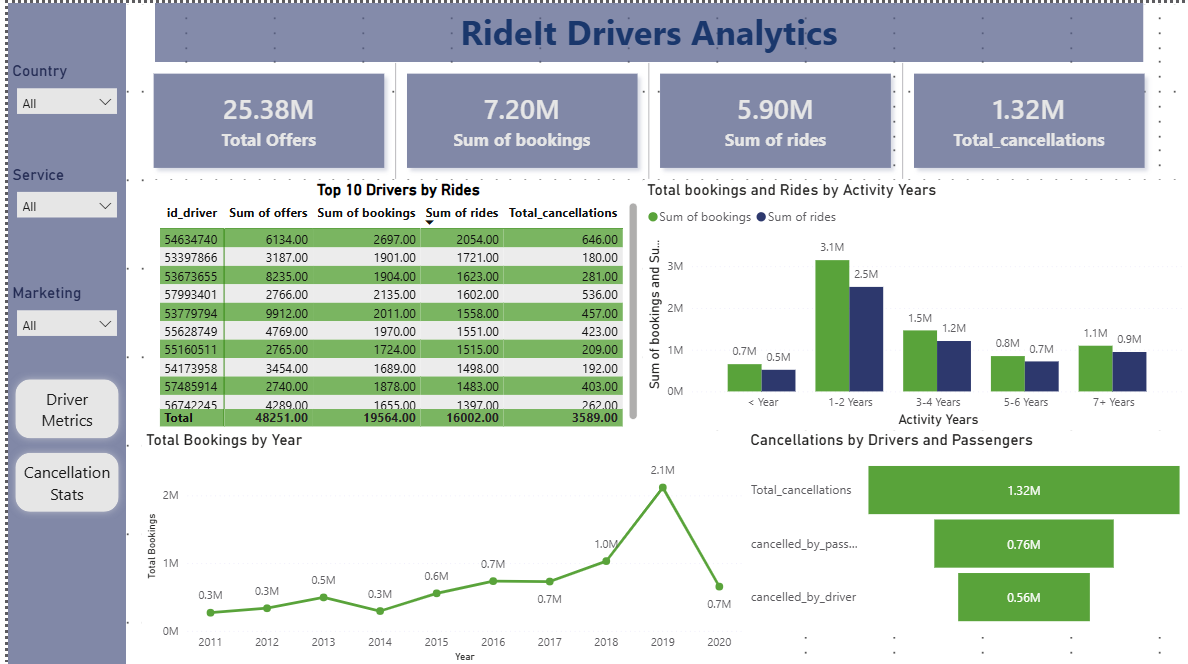

What the dashboard file says about the page in this screenshot:
{"tool":"powerbi","page":{"name":"Summary","canvas":[1280,720],"ordinal":0},"visuals":[{"type":"cardVisual","fields":{"Data":["Sum(rideit_drivers_activity.offers)","Sum(rideit_drivers_activity.bookings)","Sum(rideit_drivers_activity.rides)","rideit_drivers_activity.Total_cancellations"]},"box":[144,64,1104,128],"z":1000},{"type":"shape","box":[0,0,128,720],"z":1500},{"type":"lineChart","fields":{"Y":["Sum(rideit_drivers_activity.bookings)"],"Category":["rideit_drivers.date_registration.Variation.Date Hierarchy.Year","rideit_drivers.date_registration.Variation.Date Hierarchy.Month"]},"box":[144,464,656,256],"z":2000},{"type":"funnel","title":"Cancellations by Drivers and Passengers","fields":{"Y":["rideit_drivers_activity.Total_cancellations","Sum(rideit_drivers_activity.bookings_cancelled_by_passenger)","Sum(rideit_drivers_activity.bookings_cancelled_by_driver)"]},"box":[800,464,480,256],"z":3000},{"type":"clusteredColumnChart","title":"Total bookings and Rides by Activity Years","fields":{"Category":["rideit_drivers.Activity Days Bucket"],"Y":["Sum(rideit_drivers_activity.bookings)","Sum(rideit_drivers_activity.rides)"]},"box":[688,192,592,272],"z":4000},{"type":"pivotTable","title":"Top 10 Drivers by Rides","fields":{"Values":["Sum(rideit_drivers_activity.offers)","Sum(rideit_drivers_activity.bookings)","Sum(rideit_drivers_activity.rides)","rideit_drivers_activity.Total_cancellations"],"Rows":["rideit_drivers_activity.id_driver"]},"box":[160,192,528,272],"z":5000},{"type":"textbox","box":[160,0,1072,64],"z":6000},{"type":"slicer","title":"Country","fields":{"Values":["rideit_drivers.country_code"]},"box":[0,64,128,96],"z":7000},{"type":"slicer","title":"Service","fields":{"Values":["rideit_drivers.service_type"]},"box":[0,176,128,96],"z":8000},{"type":"slicer","title":"Marketing","fields":{"Values":["rideit_drivers.receive_marketing"]},"box":[0,304,128,112],"z":9000},{"type":"shape","box":[0,400,128,80],"z":10000},{"type":"shape","box":[0,480,128,80],"z":11000}]}

Visuals, with their boxes in screenshot pixels (x1, y1, x2, y2), scaled from the page's 1280x720 canvas onto the 1188x664 screenshot:
cardVisual - Sum(rideit_drivers_activity.offers) x Sum(rideit_drivers_activity.bookings): box(134, 59, 1158, 177)
shape: box(0, 0, 119, 663)
lineChart - Sum(rideit_drivers_activity.bookings) x rideit_drivers.date_registration.Variation.Date Hierarchy.Year: box(134, 428, 742, 663)
"Cancellations by Drivers and Passengers" funnel: box(742, 428, 1187, 663)
"Total bookings and Rides by Activity Years" clusteredColumnChart: box(639, 177, 1187, 428)
"Top 10 Drivers by Rides" pivotTable: box(148, 177, 639, 428)
textbox: box(148, 0, 1143, 59)
"Country" slicer: box(0, 59, 119, 148)
"Service" slicer: box(0, 162, 119, 251)
"Marketing" slicer: box(0, 280, 119, 384)
shape: box(0, 369, 119, 443)
shape: box(0, 443, 119, 516)
